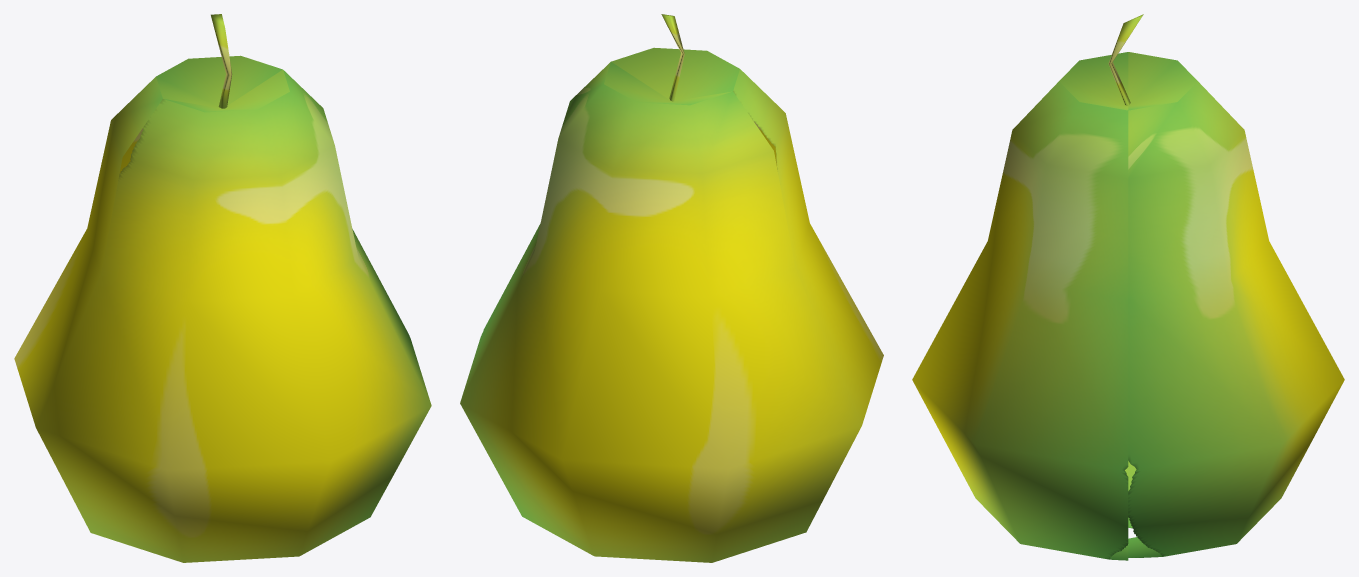
Rendered from Pear.FBX.
3 views of the same model, side by side, from view 1: azimuth 30°, elevation 25°; view 2: azimuth 150°, elevation 25°; view 3: azimuth 270°, elevation 25° (orthographic).
Visible parts, largest first — view 1: pear; view 2: pear; view 3: pear.
Part boxes in pixels (left/top/right/bottom): pear: left=14, top=14, right=431, bottom=562; pear: left=460, top=14, right=883, bottom=562; pear: left=912, top=14, right=1344, bottom=560.
Size of the model in its own units: 7.3 by 9.68 by 7.3.
